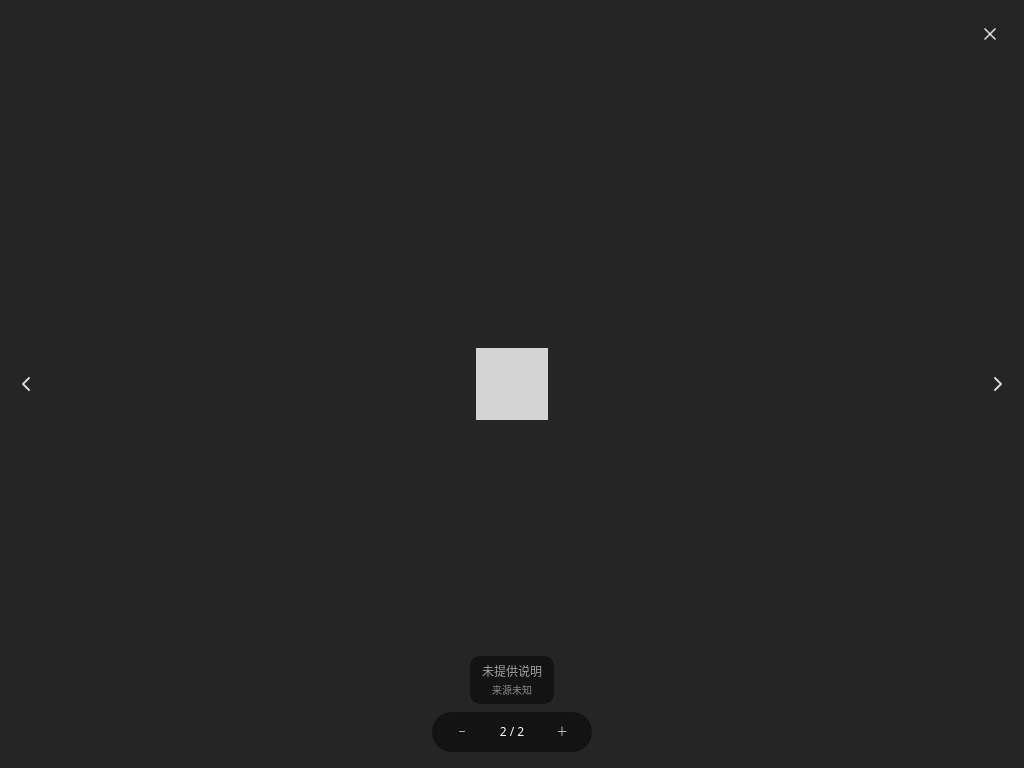
Test: ArticleLightbox — 灯箱浮层 › ←/→ 与上一张/下一张循环切换；切换后重置缩放状态可再缩放
The image size is (1024, 768).
Expected: the text "2 / 2" is shown, top-left (500, 723), bottom-right (524, 740)
Step 1. Press ArrowRight
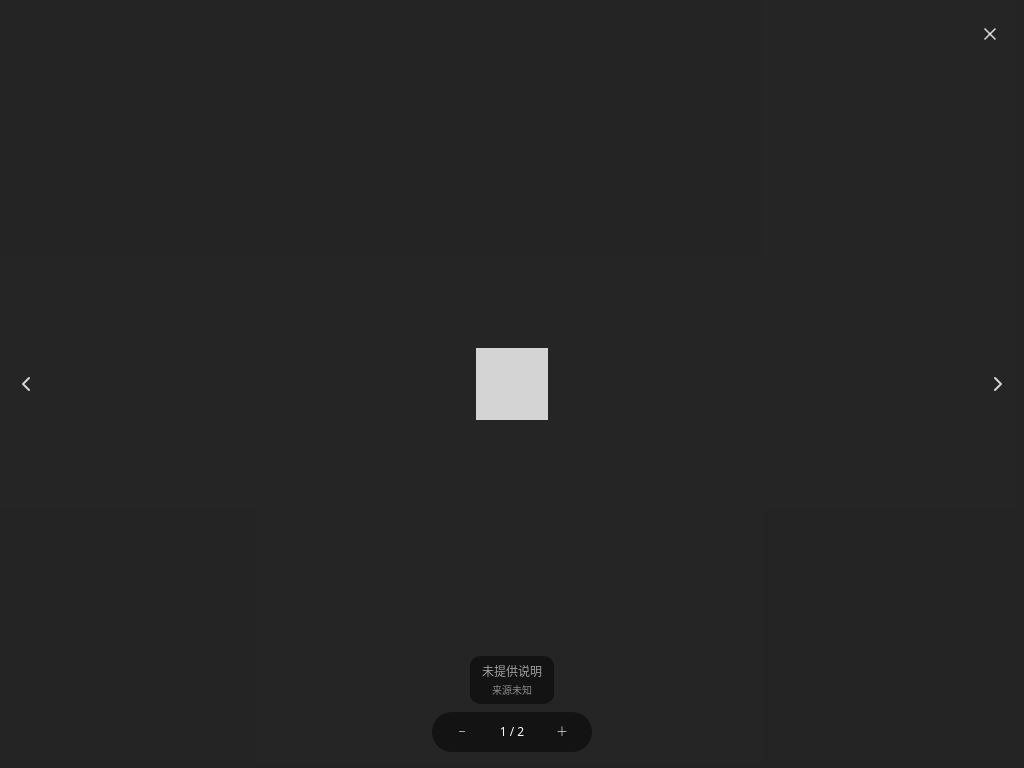
Expected: the text "1 / 2" is shown, top-left (500, 723), bottom-right (524, 740)
Step 2. Click the button named "下一张" → (998, 384), box top-left (976, 362), bottom-right (1020, 406)
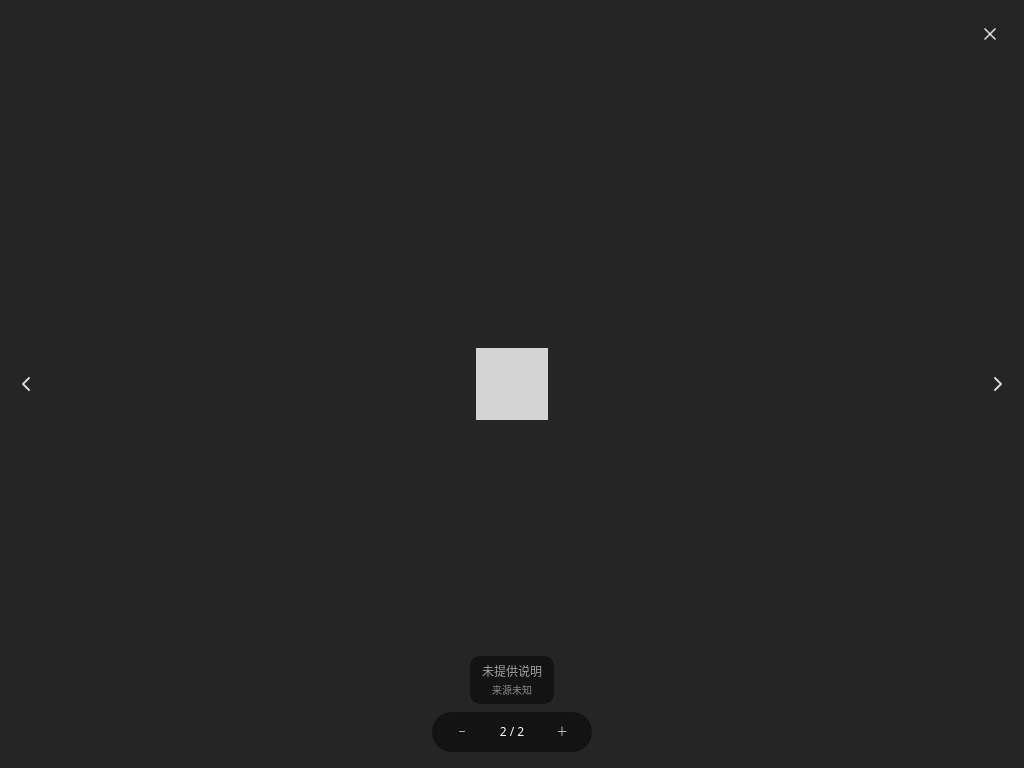
Expected: the text "2 / 2" is shown, top-left (500, 723), bottom-right (524, 740)
Step 3. Click the button named "上一张" → (26, 384), box top-left (4, 362), bottom-right (48, 406)
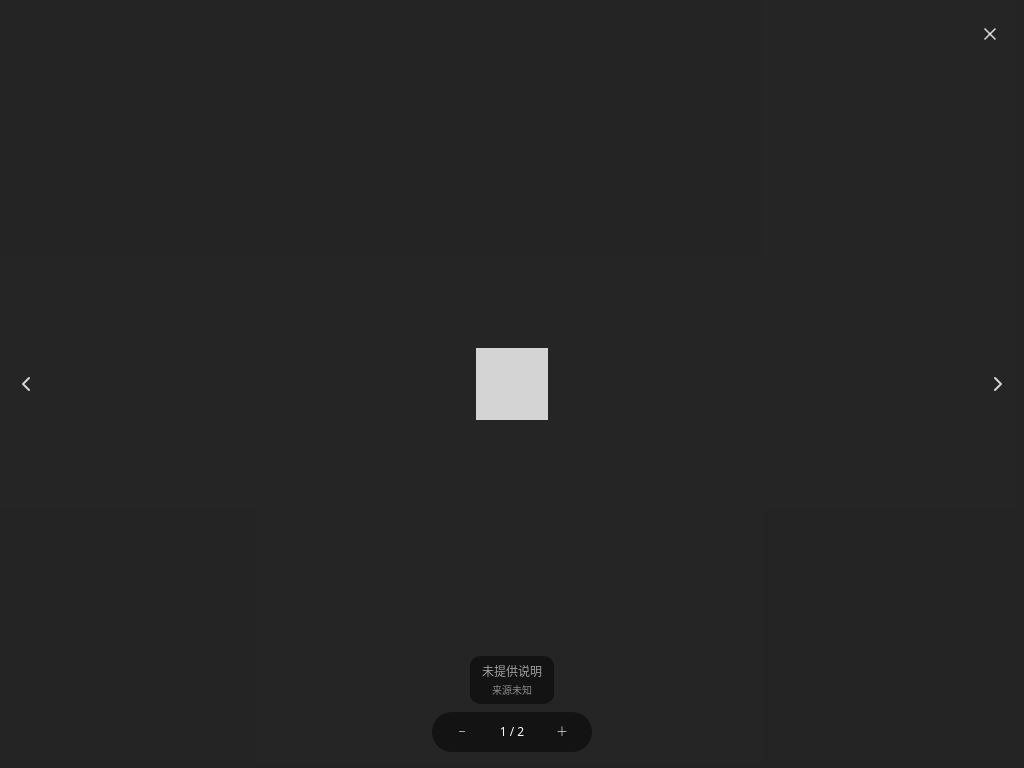
Expected: the text "1 / 2" is shown, top-left (500, 723), bottom-right (524, 740)
